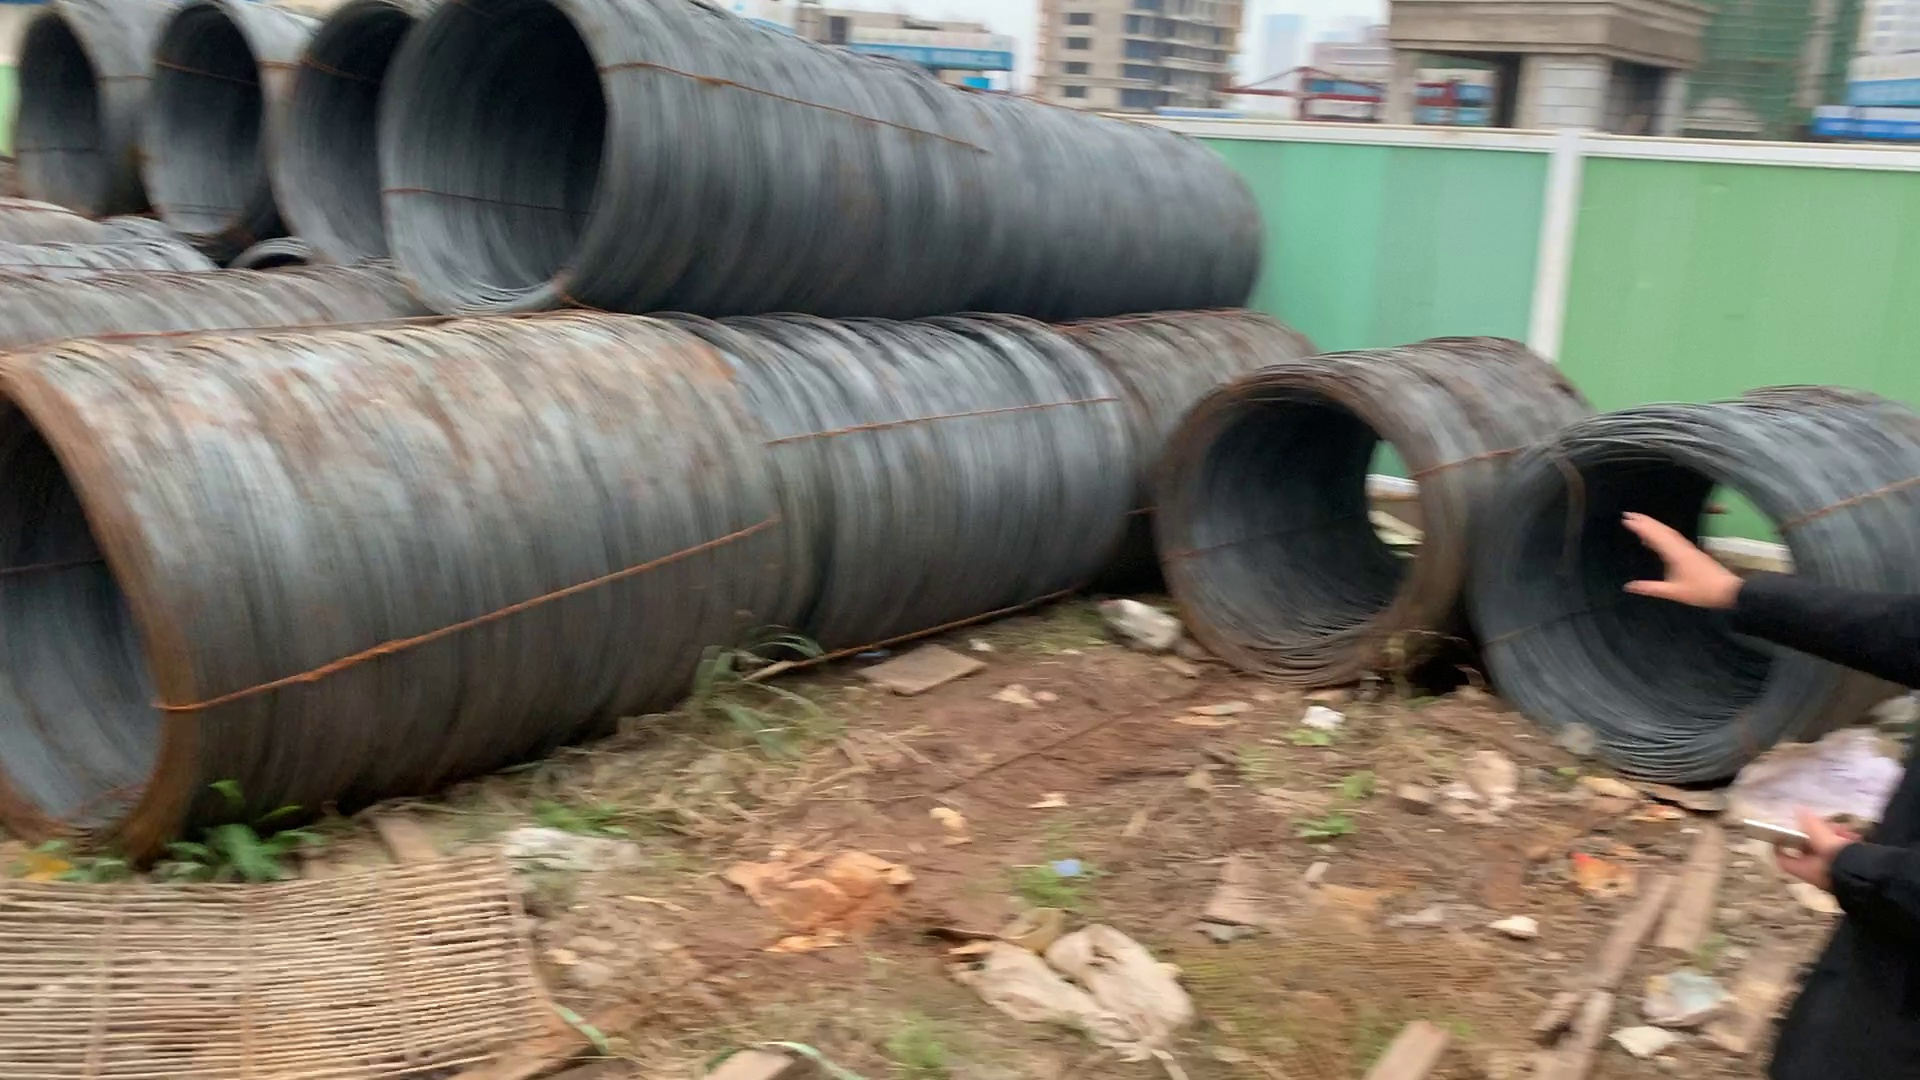coil: (1495, 427, 1826, 777), (1153, 368, 1457, 688), (1, 385, 193, 852), (380, 1, 626, 320), (135, 7, 287, 255), (285, 1, 418, 277), (12, 1, 129, 229)
